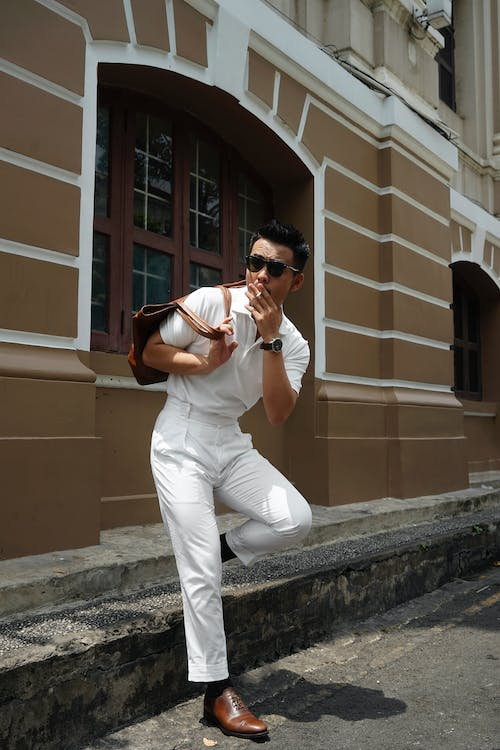cigarette: (255, 289, 265, 299)
